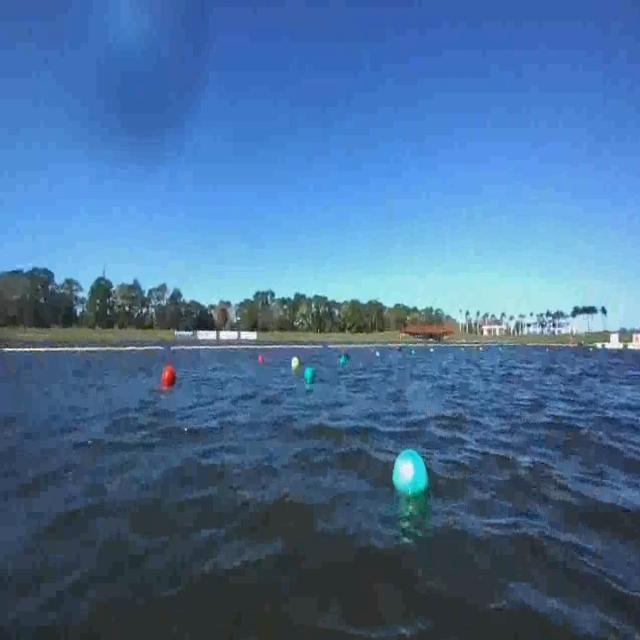green-buoy: (391, 448, 429, 498), (306, 366, 316, 380), (342, 355, 349, 366)
red-buoy: (162, 365, 180, 389)
yellow-buoy: (291, 357, 300, 371)
